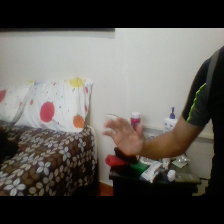left: (98, 113, 151, 160)
